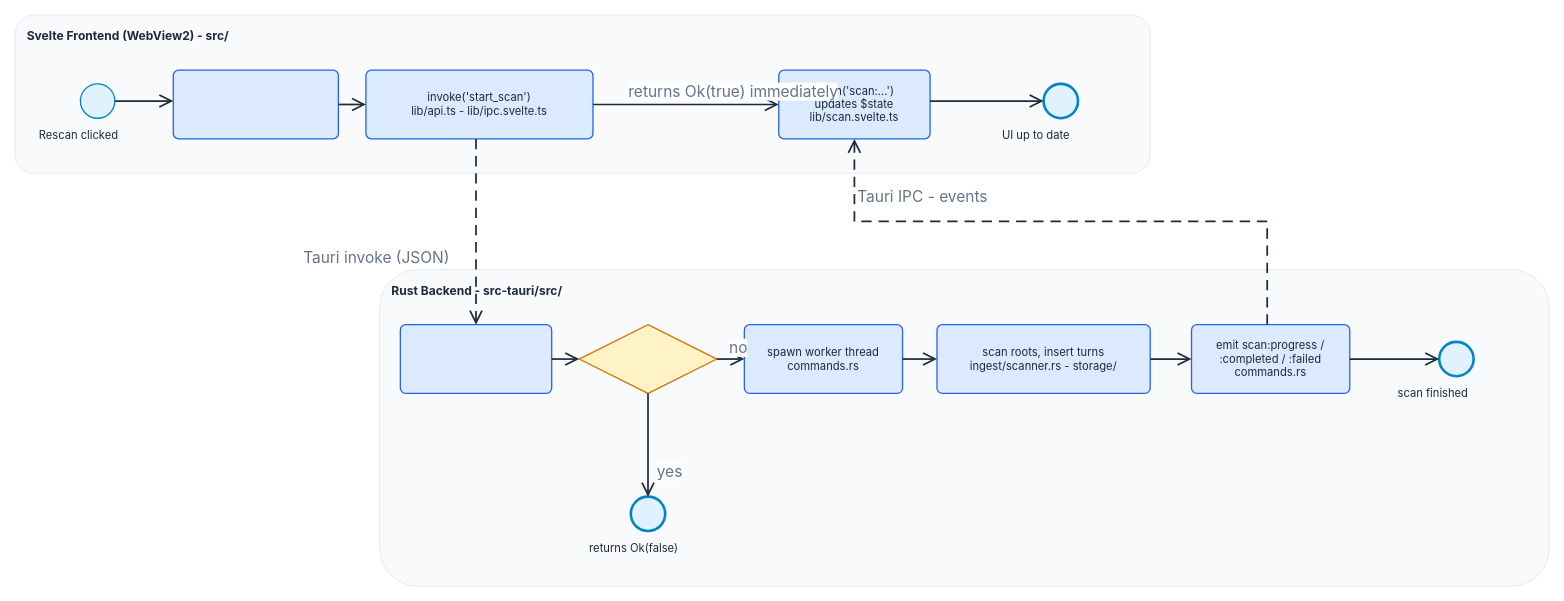
Some shapes in this 1564 by 601 pixel diagram are drawn without their labels. Here are the shapes that lost their labels. From the top down, the centre of each, then its label:
point (255, 104): Scan store lib/scan.svelte.ts calls api.startScan()
point (475, 359): start_scan handler commands.rs
point (647, 359): already running? (ScanGuard)
